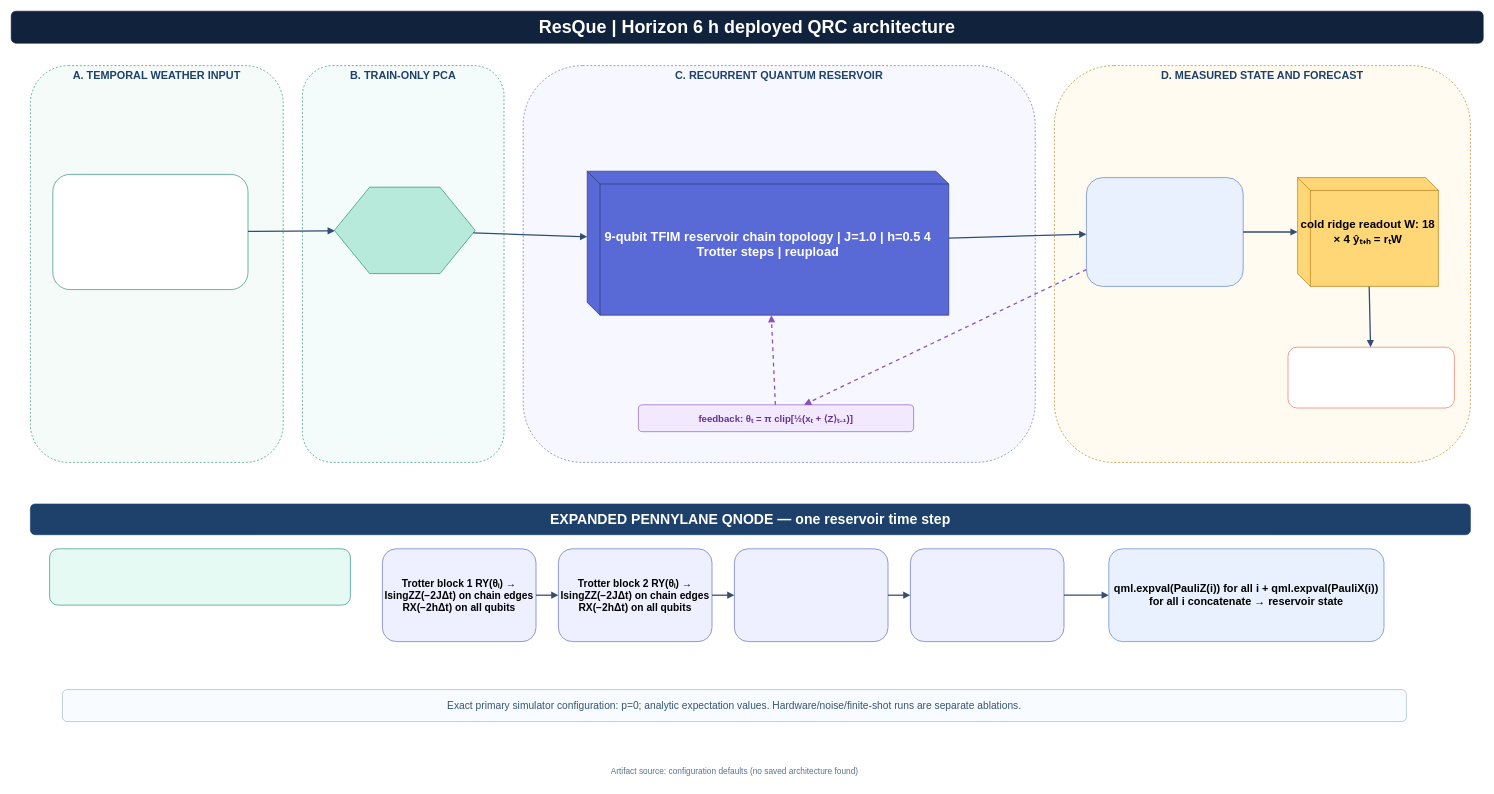
Some shapes in this 1494 by 794 pixel diagram are drawn without their labels. The shapes that lost their labels are listed below. From the top down, each one's centre as x and y in pixels, then its label:
point 150,232: 20 × 4 history window T • RH • SLP • WS normalised weather traces
point 404,230: PCA 80 → 9 components xₜ ∈ R^9
point 1164,231: EXPECTATION MEASUREMENTS [⟨Z₀…Zₙ₋₁⟩, ⟨X₀…Xₙ₋₁⟩] rₜ ∈ R^18
point 1370,377: Four forecasts at t + 6 h temperature • humidity pressure • wind speed
point 199,576: θᵢ = π·clip(xᵢ) (re-encoded before each block) Δt = τ/S = 1.0/4
point 811,595: Trotter block 3 RY(θᵢ) → IsingZZ(−2JΔt) on chain edges RX(−2hΔt) on all qubits
point 987,595: Trotter block 4 RY(θᵢ) → IsingZZ(−2JΔt) on chain edges RX(−2hΔt) on all qubits
